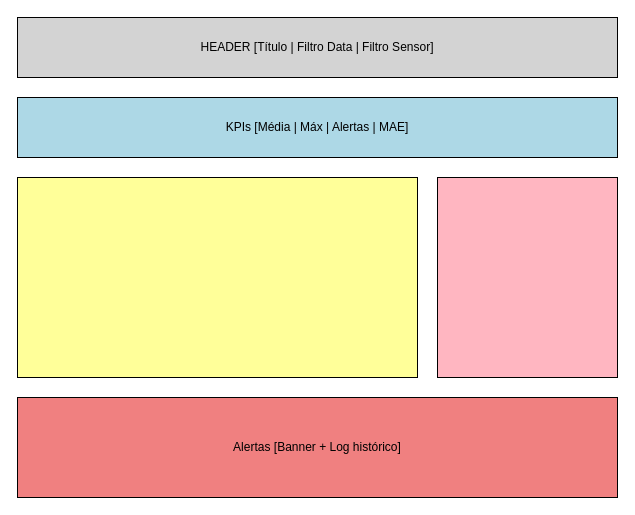
The diagram is 635 pixels wide and 515 high, and some of its shapes have lost their labels. The centre of each missing label's shape, as x and y in pixels:
"Gráfico Série Temporal (Sensor real vs previsto)" belongs at (217,277).
"Painel Lateral [Erro modelo | Status modelo]" belongs at (527,277).
